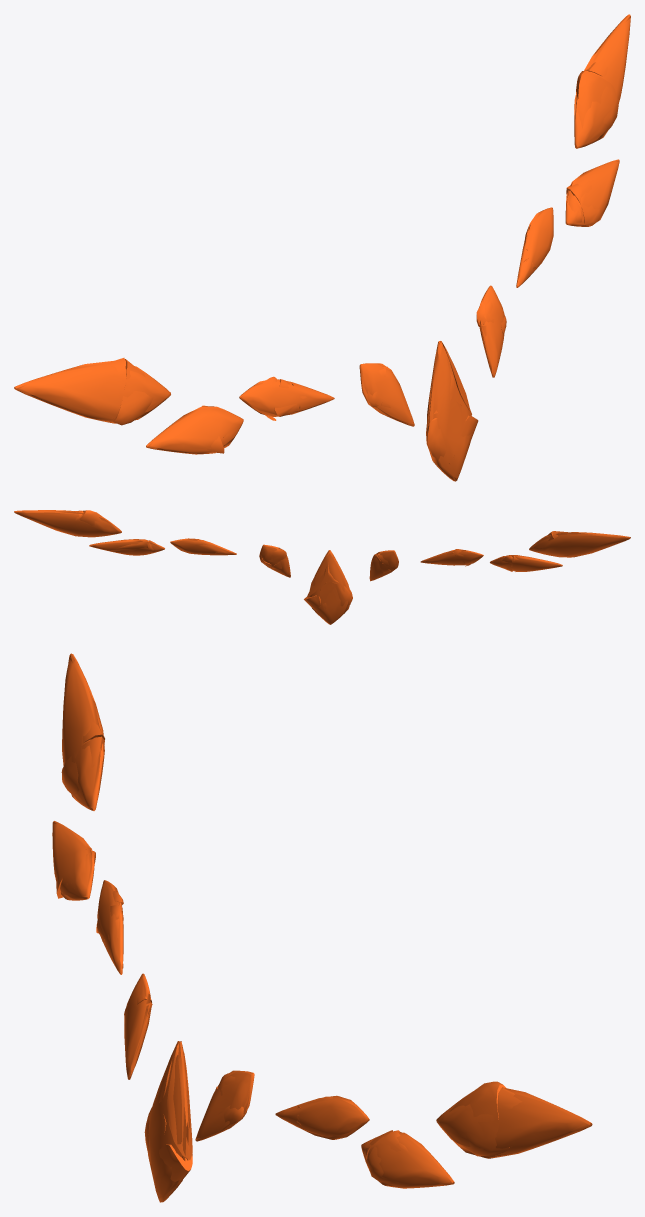
3 renders of one model, top to bottom at view 1: azimuth 30°, elevation 25°; view 2: azimuth 150°, elevation 25°; view 3: azimuth 270°, elevation 25°, orthographic. The views are drawn at different scales.
Visible parts, largest first — view 1: 459_2; view 2: 459_2; view 3: 459_2.
Boxes of the visible parts, x1,y1,x2,y2 form: 459_2: (14,14,630,481); 459_2: (14,510,630,624); 459_2: (52,653,592,1202).
Size of the model in its own units: 72.4 by 34.76 by 20.09.
